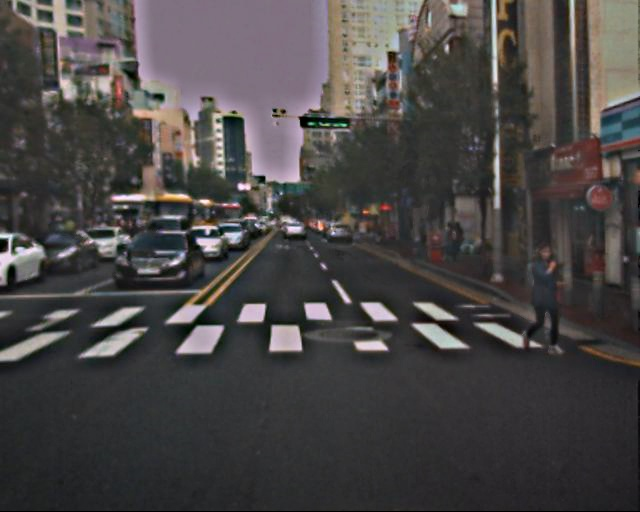person: (518, 242, 565, 356), (441, 225, 467, 265)
